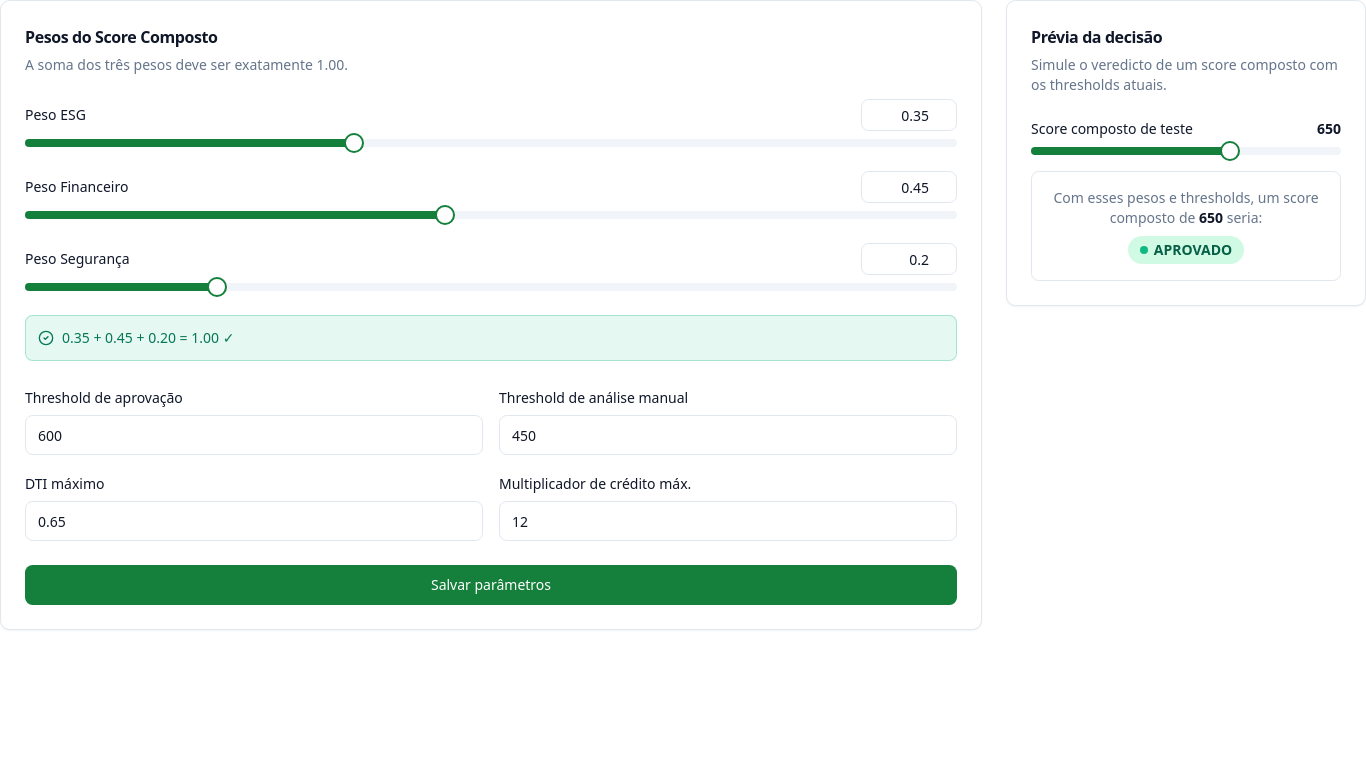
Test: RiskParamsForm › desabilita salvar quando a soma dos pesos ≠ 1.00
The width and height of the screenshot is (1366, 768).
Replace the text in the number field named "Peso ESG" with "0.5" at (909, 115), box [861,99,957,131]
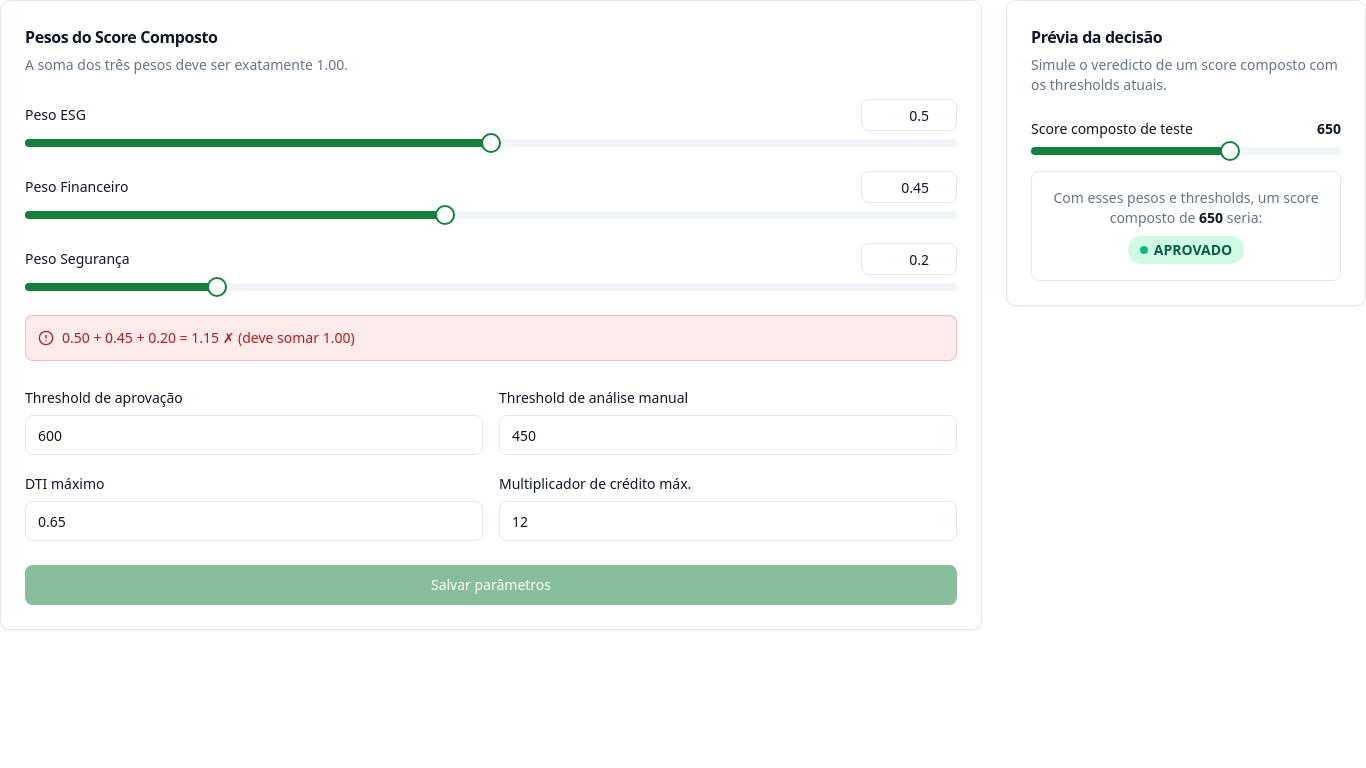
Check: the button "Salvar parâmetros" is disabled, box [25,565,957,605]
Check: the text "0.50 + 0.45 + 0.20 = 1.15 ✗ (deve somar 1.00)" is shown, box [62,328,355,348]
Replace the text in the number field named "Peso ESG" with "0.35" at (909, 115), box [861,99,957,131]
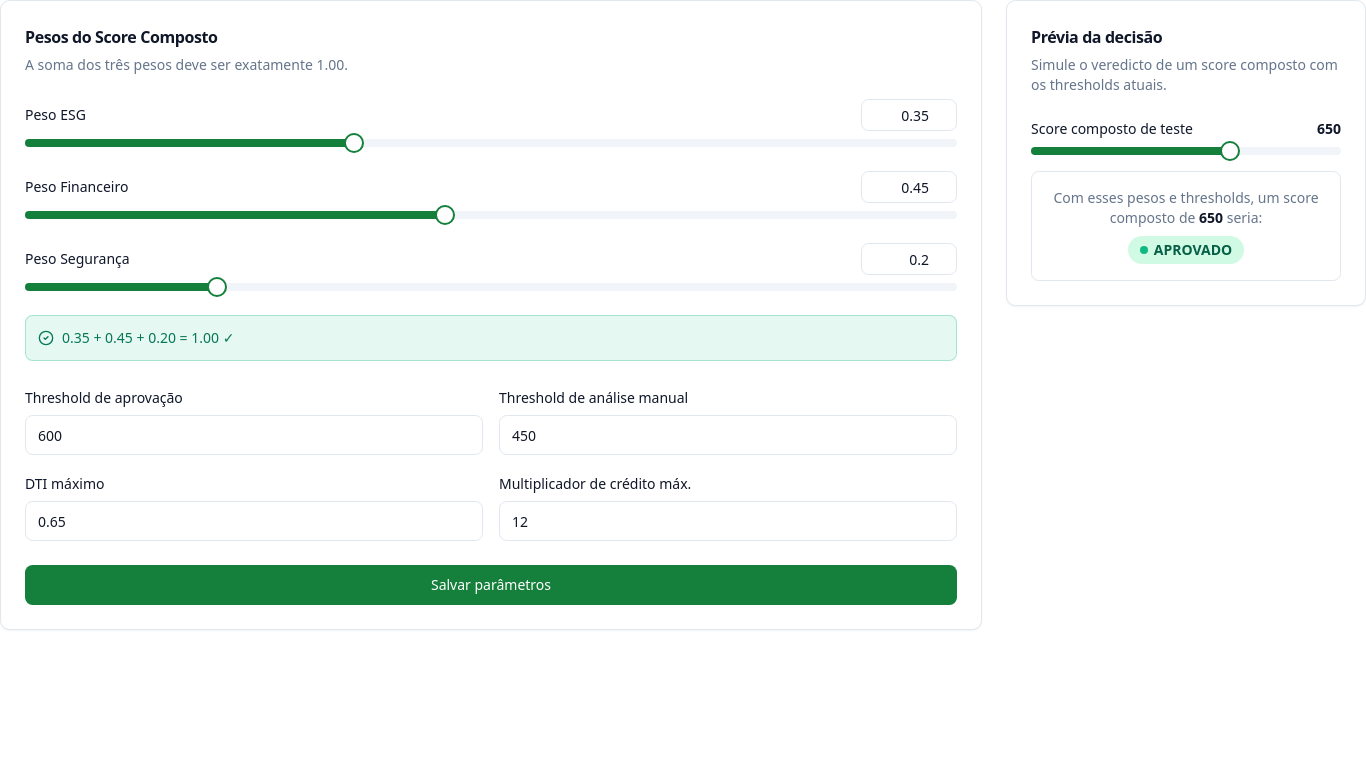
Check: the button "Salvar parâmetros" is enabled, box [25,565,957,605]
